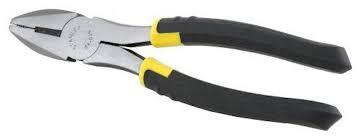pliers: (7, 7, 351, 130)
